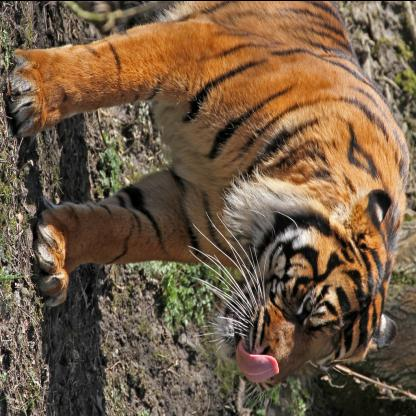tiger: (185, 161, 401, 406)
